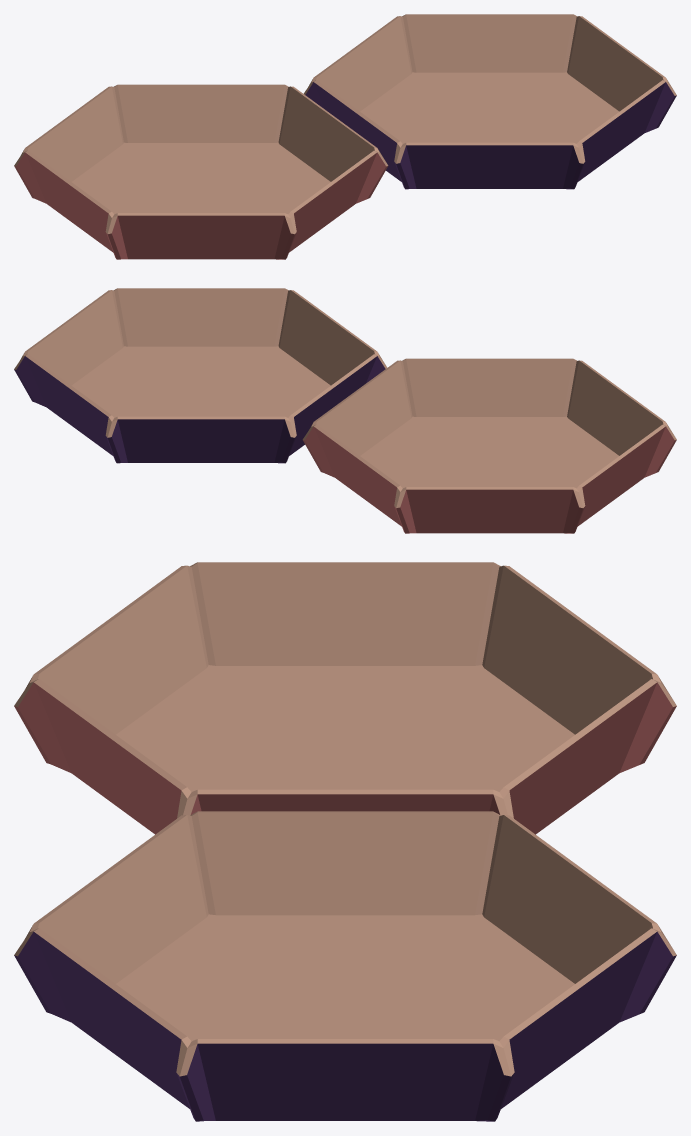
The model's file is DiceTray.fbx.
3 renders of one model, top to bottom at view 1: azimuth 30°, elevation 25°; view 2: azimuth 150°, elevation 25°; view 3: azimuth 270°, elevation 25°, orthographic. The views are drawn at different scales.
Visible parts, largest first — view 1: Cylinder, Cylinder.001; view 2: Cylinder, Cylinder.001; view 3: Cylinder.001, Cylinder.
Part boxes in pixels (left/top/right/bottom): Cylinder: left=14, top=84, right=388, bottom=259; Cylinder.001: left=303, top=14, right=676, bottom=189; Cylinder: left=302, top=358, right=676, bottom=533; Cylinder.001: left=14, top=288, right=387, bottom=463; Cylinder.001: left=14, top=811, right=676, bottom=1121; Cylinder: left=14, top=562, right=676, bottom=834.
Bounding box in the file's own units: 1530 × 136 × 871.
